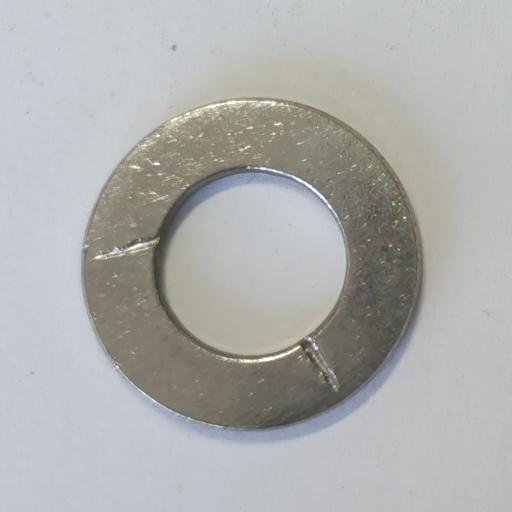scratch: (301, 337, 339, 392), (92, 237, 160, 261)
